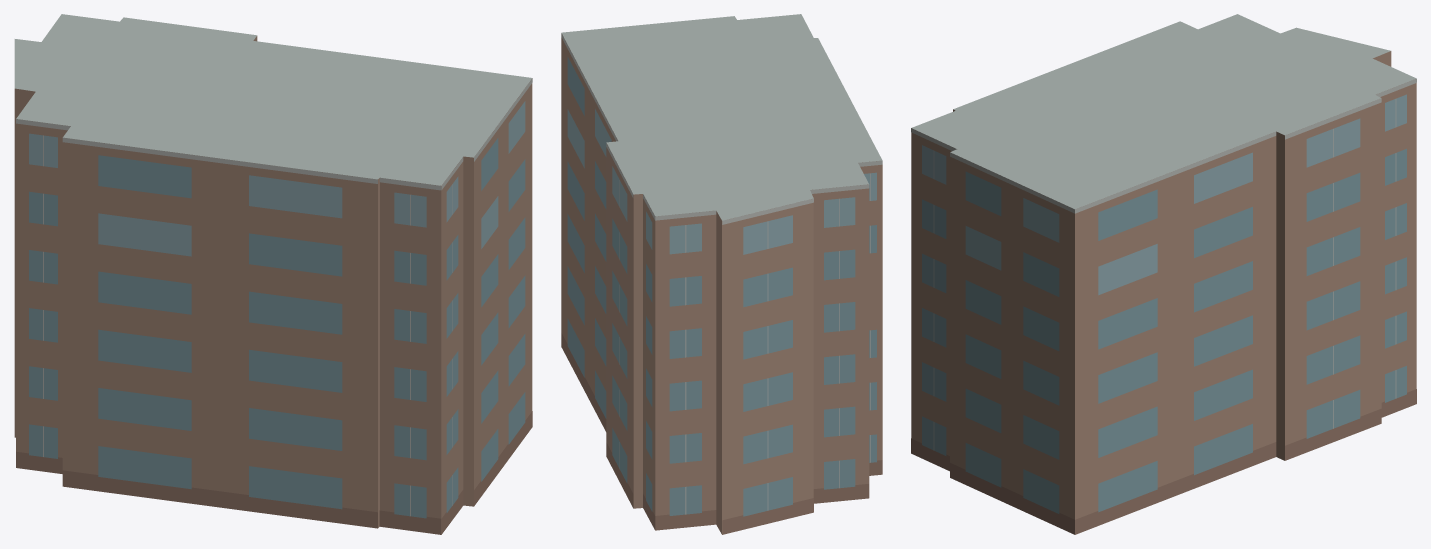
File: survey-upis-32725169.glb
3 renders of one model, left to right at view 1: azimuth 30°, elevation 25°; view 2: azimuth 150°, elevation 25°; view 3: azimuth 270°, elevation 25°, orthographic. The views are drawn at different scales.
Parts seen in each view (by area): view 1: survey-upis-32725169.tmp; view 2: survey-upis-32725169.tmp; view 3: survey-upis-32725169.tmp.
Boxes of the visible parts, x1,y1,x2,y2 form: survey-upis-32725169.tmp: [14, 14, 532, 534]; survey-upis-32725169.tmp: [561, 14, 882, 534]; survey-upis-32725169.tmp: [911, 14, 1416, 534].
Size of the model in its own units: 23.56 by 18.3 by 25.77.
